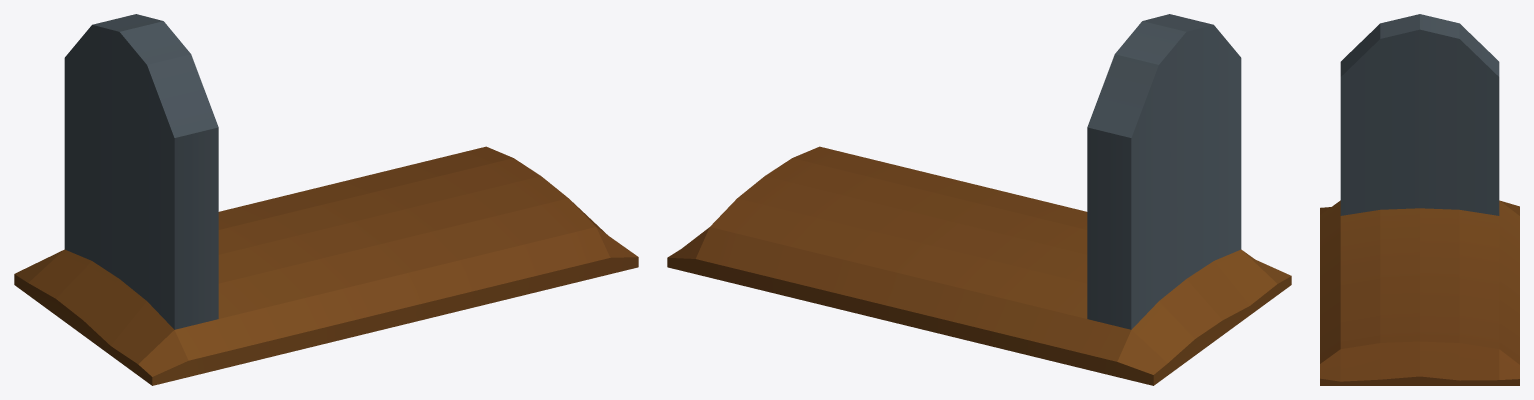
Rendered from TUMBA .fbx.
3 renders of one model, left to right at view 1: azimuth 30°, elevation 25°; view 2: azimuth 150°, elevation 25°; view 3: azimuth 270°, elevation 25°, orthographic. The views are drawn at different scales.
Visible parts, largest first — view 1: Cube; view 2: Cube; view 3: Cube.
Part boxes in pixels (box(x1,y1,x2,y2)): Cube: box(14, 14, 638, 385); Cube: box(667, 14, 1291, 385); Cube: box(1320, 14, 1519, 385).
Size of the model in its own units: 511 by 296 by 251.
